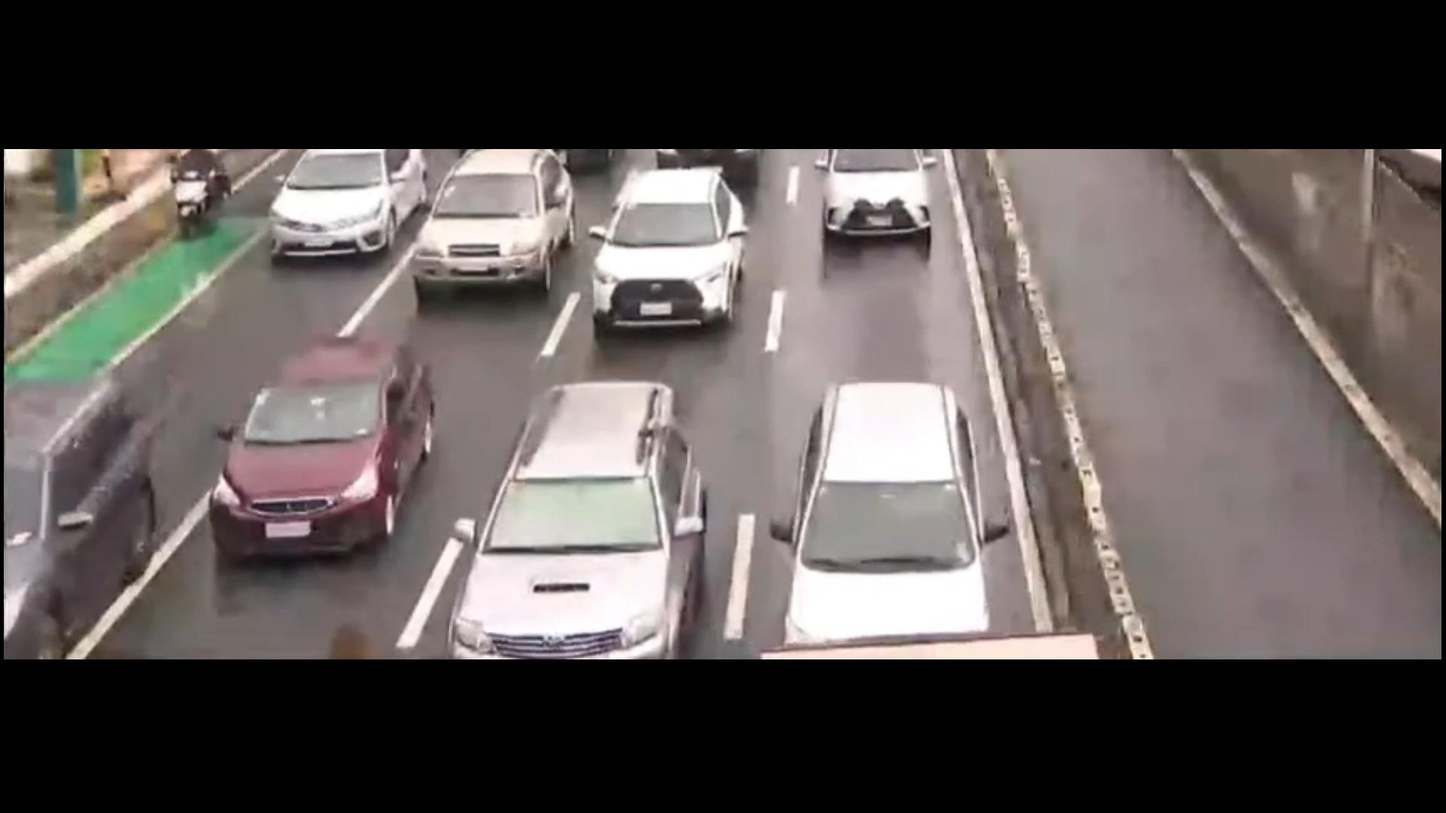Motorcycle: (160, 152, 235, 252)
SUV: (436, 369, 726, 659), (777, 365, 999, 634), (0, 355, 172, 655), (567, 166, 747, 344), (408, 140, 582, 316)
Sedan: (195, 328, 446, 582), (255, 146, 426, 277)
